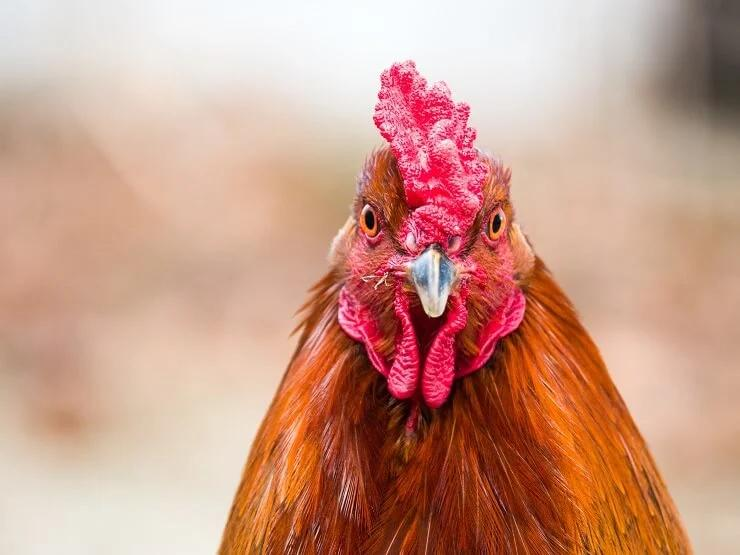AbNormal: (381, 59, 479, 240)
